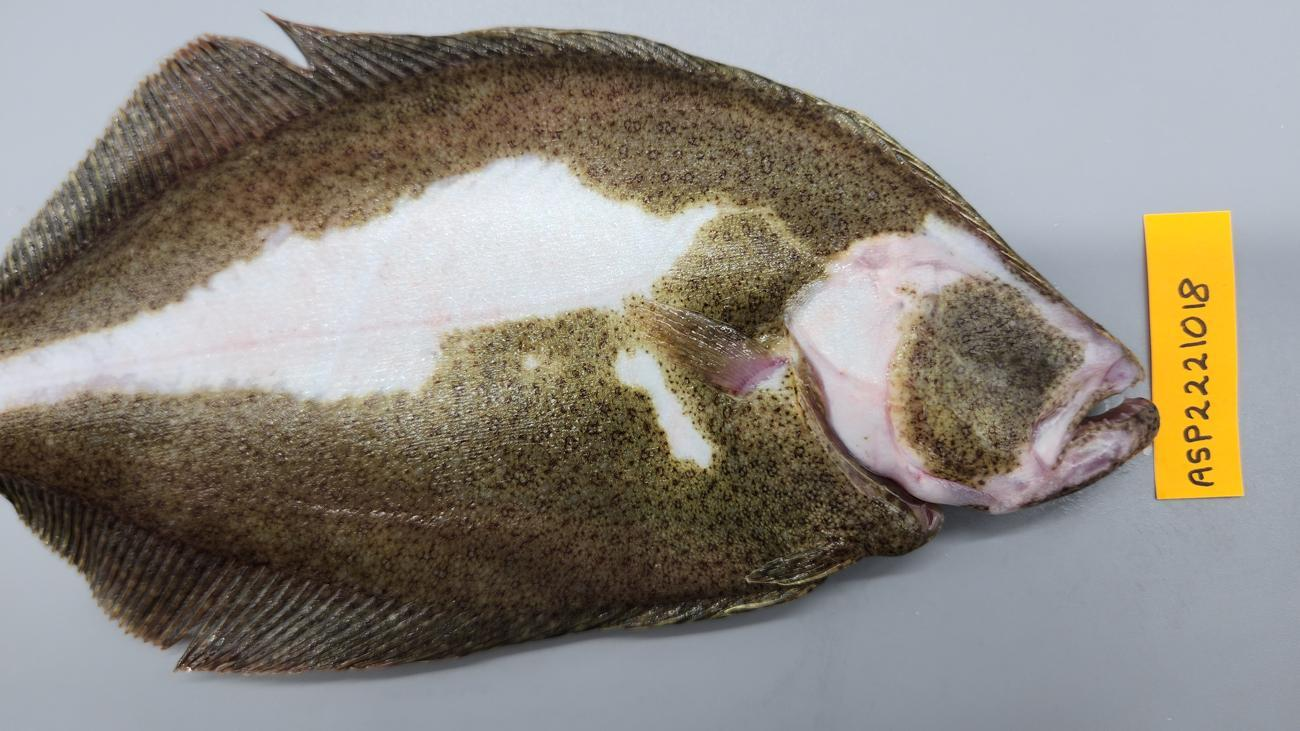SPDYH: (421, 496, 753, 609)
